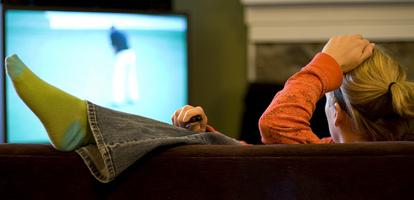person: (7, 36, 412, 185)
